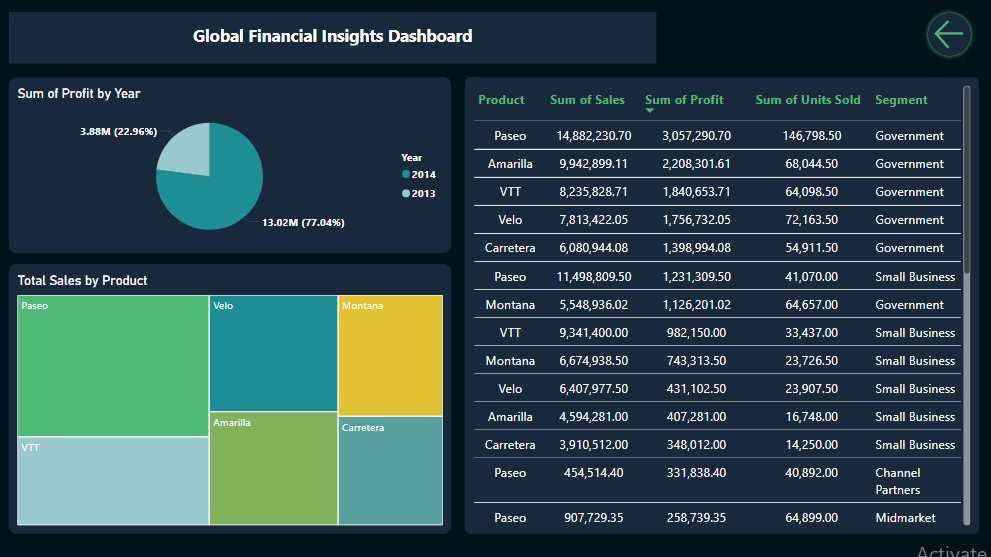

What the dashboard file says about the page in this screenshot:
{"tool":"powerbi","page":{"name":"Page 2","canvas":[1280,720],"ordinal":1},"visuals":[{"type":"shape","title":"Global Financial Insights Dashboard","box":[17.1,17.1,830,65.7],"z":0},{"type":"actionButton","box":[1184.3,7.1,75.7,75.7],"z":1000},{"type":"tableEx","fields":{"Values":["financials.Product","Sum(financials. Sales)","Sum(financials.Profit)","Sum(financials.Units Sold)","financials.Segment"]},"box":[601.4,100,658.6,585.7],"z":2000},{"type":"pieChart","fields":{"Category":["financials.Year"],"Y":["Sum(financials.Profit)"]},"box":[17.1,100,567.1,225.7],"z":3000},{"type":"treemap","fields":{"Group":["financials.Product"],"Values":["financials.Total Sales"]},"box":[17.1,340,567.1,345.7],"z":4000}]}

Visuals, with their boxes in screenshot pixels (x1, y1, x2, y2), scaled from the page's 1280x720 canvas onto the 991x557 screenshot:
"Global Financial Insights Dashboard" shape: BBox(13, 13, 656, 64)
actionButton: BBox(917, 5, 976, 64)
tableEx - financials.Product x Sum(financials. Sales): BBox(466, 77, 976, 530)
pieChart - financials.Year x Sum(financials.Profit): BBox(13, 77, 452, 252)
treemap - financials.Product x financials.Total Sales: BBox(13, 263, 452, 530)
